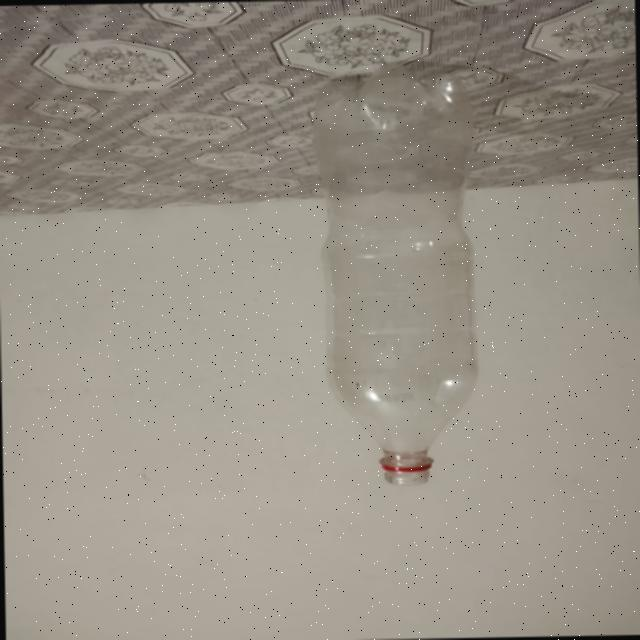bottle: (322, 59, 485, 483)
